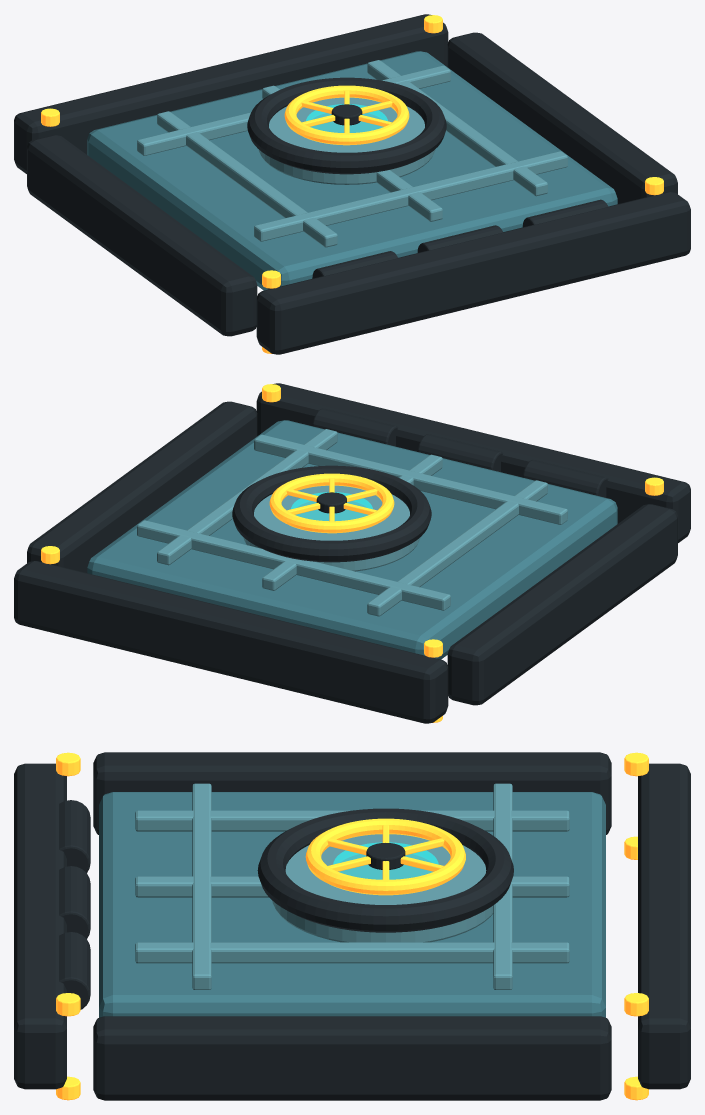
The model's file is 03_square_hinged_service_hatch.glb.
3 renders of one model, top to bottom at view 1: azimuth 30°, elevation 25°; view 2: azimuth 150°, elevation 25°; view 3: azimuth 270°, elevation 25°, orthographic. The views are drawn at different scales.
Visible parts, largest first — view 1: Moving_Square_Armored_Leaf.001, Frame_North.001, Frame_West.001, Frame_South.001, Frame_East.001, Service_Hatch_Top_Rim, Service_Hatch_Top_Leaf, Moving_Top_Cross_Rib_0.001, Moving_Top_Longitudinal_Rib_0.001, Service_Hatch_Top_Wheel, Moving_Top_Longitudinal_Rib_2.001, Moving_Top_Cross_Rib_1.001 (+5 smaller); view 2: Moving_Square_Armored_Leaf.001, Frame_South.001, Frame_West.001, Frame_East.001, Frame_North.001, Service_Hatch_Top_Rim, Moving_Top_Cross_Rib_1.001, Service_Hatch_Top_Leaf, Moving_Top_Cross_Rib_0.001, Moving_Top_Longitudinal_Rib_0.001, Service_Hatch_Top_Wheel, Moving_Top_Longitudinal_Rib_2.001 (+5 smaller); view 3: Moving_Square_Armored_Leaf.001, Frame_East.001, Frame_West.001, Frame_South.001, Frame_North.001, Service_Hatch_Top_Rim, Moving_Top_Longitudinal_Rib_2.001, Service_Hatch_Top_Leaf, Moving_Top_Longitudinal_Rib_0.001, Service_Hatch_Top_Wheel, Moving_Top_Cross_Rib_0.001, Moving_Top_Longitudinal_Rib_1.001 (+10 smaller).
Part boxes in pixels (x1,y1,x2,y2): Moving_Square_Armored_Leaf.001: [87, 51, 617, 290]; Frame_North.001: [256, 192, 690, 354]; Frame_West.001: [27, 135, 257, 336]; Frame_South.001: [14, 14, 448, 173]; Frame_East.001: [447, 32, 677, 203]; Service_Hatch_Top_Rim: [247, 77, 446, 174]; Service_Hatch_Top_Leaf: [258, 97, 435, 184]; Moving_Top_Cross_Rib_0.001: [254, 151, 567, 241]; Moving_Top_Longitudinal_Rib_0.001: [157, 111, 337, 247]; Service_Hatch_Top_Wheel: [284, 85, 409, 145]; Moving_Top_Longitudinal_Rib_2.001: [367, 60, 547, 196]; Moving_Top_Cross_Rib_1.001: [137, 65, 450, 155]; Moving_Square_Armored_Leaf.001: [87, 420, 617, 659]; Frame_South.001: [14, 561, 448, 723]; Frame_West.001: [447, 504, 677, 705]; Frame_East.001: [27, 401, 257, 572]; Frame_North.001: [256, 383, 690, 542]; Service_Hatch_Top_Rim: [232, 465, 431, 562]; Moving_Top_Cross_Rib_1.001: [137, 520, 450, 610]; Service_Hatch_Top_Leaf: [243, 485, 420, 571]; Moving_Top_Cross_Rib_0.001: [254, 434, 567, 524]; Moving_Top_Longitudinal_Rib_0.001: [367, 480, 547, 616]; Service_Hatch_Top_Wheel: [269, 473, 394, 533]; Moving_Top_Longitudinal_Rib_2.001: [157, 429, 337, 565]; Moving_Square_Armored_Leaf.001: [99, 792, 605, 1017]; Frame_East.001: [93, 1016, 611, 1100]; Frame_West.001: [93, 752, 611, 834]; Frame_South.001: [638, 763, 690, 1089]; Frame_North.001: [14, 763, 66, 1089]; Service_Hatch_Top_Rim: [257, 808, 513, 932]; Moving_Top_Longitudinal_Rib_2.001: [135, 942, 569, 963]; Service_Hatch_Top_Leaf: [272, 834, 493, 942]; Moving_Top_Longitudinal_Rib_0.001: [135, 810, 569, 831]; Service_Hatch_Top_Wheel: [305, 818, 465, 895]; Moving_Top_Cross_Rib_0.001: [192, 783, 211, 989]; Moving_Top_Longitudinal_Rib_1.001: [135, 876, 569, 897].
Size of the model in its own units: 1.22 by 0.2806 by 1.22.
